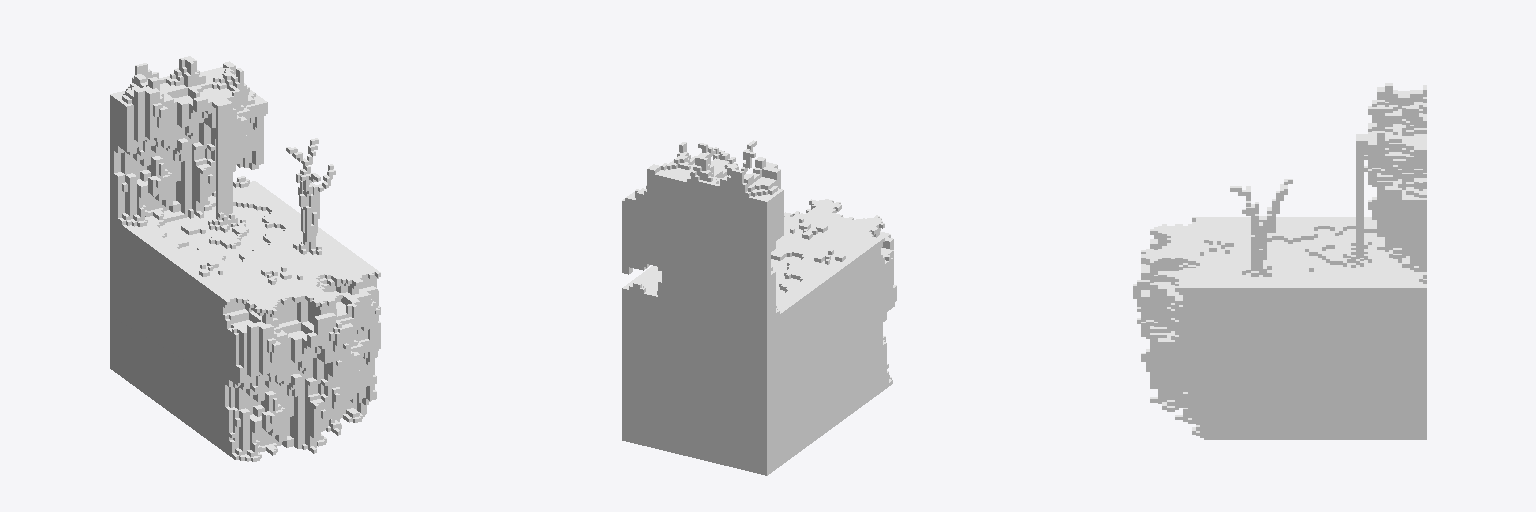
The model's file is MountainRocks-2.obj.
3 views of the same model, side by side, from view 1: azimuth 30°, elevation 25°; view 2: azimuth 150°, elevation 25°; view 3: azimuth 270°, elevation 25° (orthographic).
Visible parts, largest first — view 1: object 1; view 2: object 1; view 3: object 1.
Boxes of the visible parts, box(x1,y1,x2,y2) form: object 1: box(110, 56, 380, 461); object 1: box(622, 140, 896, 475); object 1: box(1133, 83, 1426, 439).
Bounding box in the file's own units: 4 × 7.8 × 7.